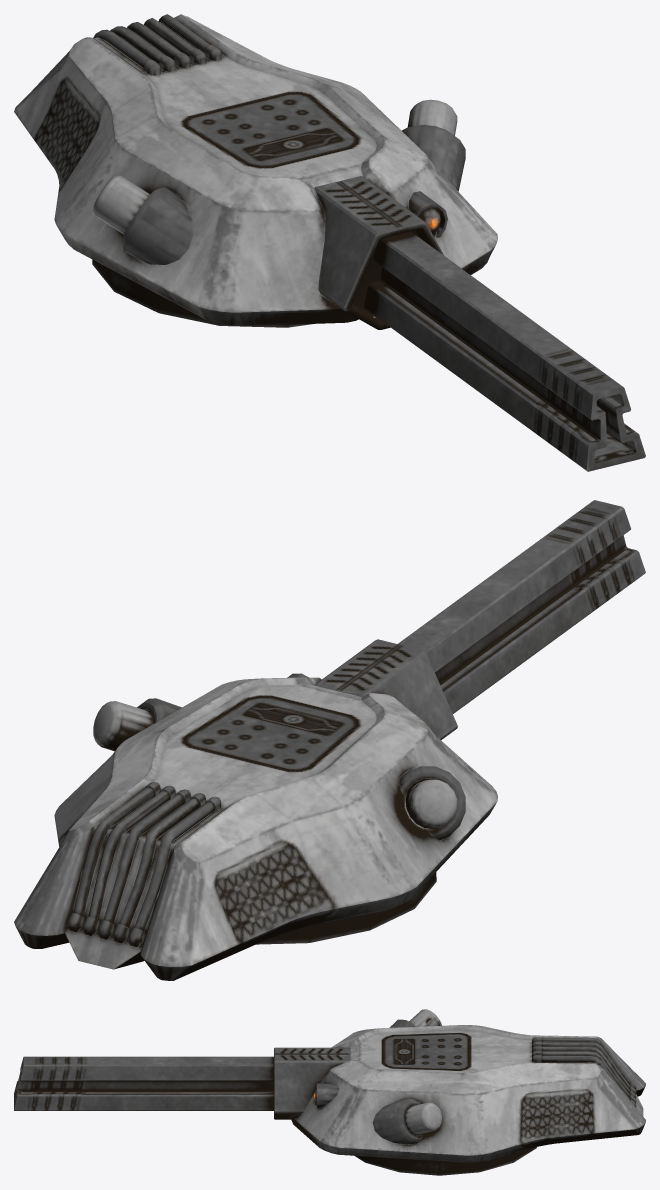
Rendered from ShipCannon.fbx.
The picture shows the model from 3 angles, top to bottom: view 1: azimuth 30°, elevation 25°; view 2: azimuth 150°, elevation 25°; view 3: azimuth 270°, elevation 25°; orthographic projection. The views are drawn at different scales.
Parts seen in each view (by area): view 1: defaultMaterial.006; view 2: defaultMaterial.006; view 3: defaultMaterial.006.
Boxes of the visible parts, box(x1,y1,x2,y2) form: defaultMaterial.006: box(14, 14, 645, 471); defaultMaterial.006: box(14, 500, 645, 980); defaultMaterial.006: box(14, 1009, 645, 1175).
Size of the model in its own units: 30.81 by 11.53 by 77.38.
